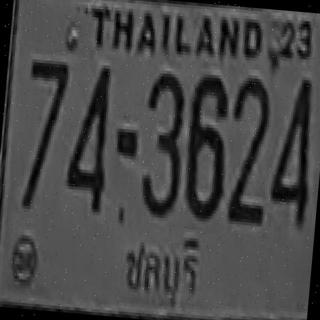N02: (224, 74, 272, 223), (224, 74, 273, 212)
N03: (137, 69, 186, 216)
N04: (267, 76, 317, 226), (62, 60, 112, 209)
N06: (180, 70, 232, 220)
N07: (17, 56, 67, 208), (20, 56, 68, 176), (22, 56, 68, 158)
P13: (116, 227, 204, 316)
